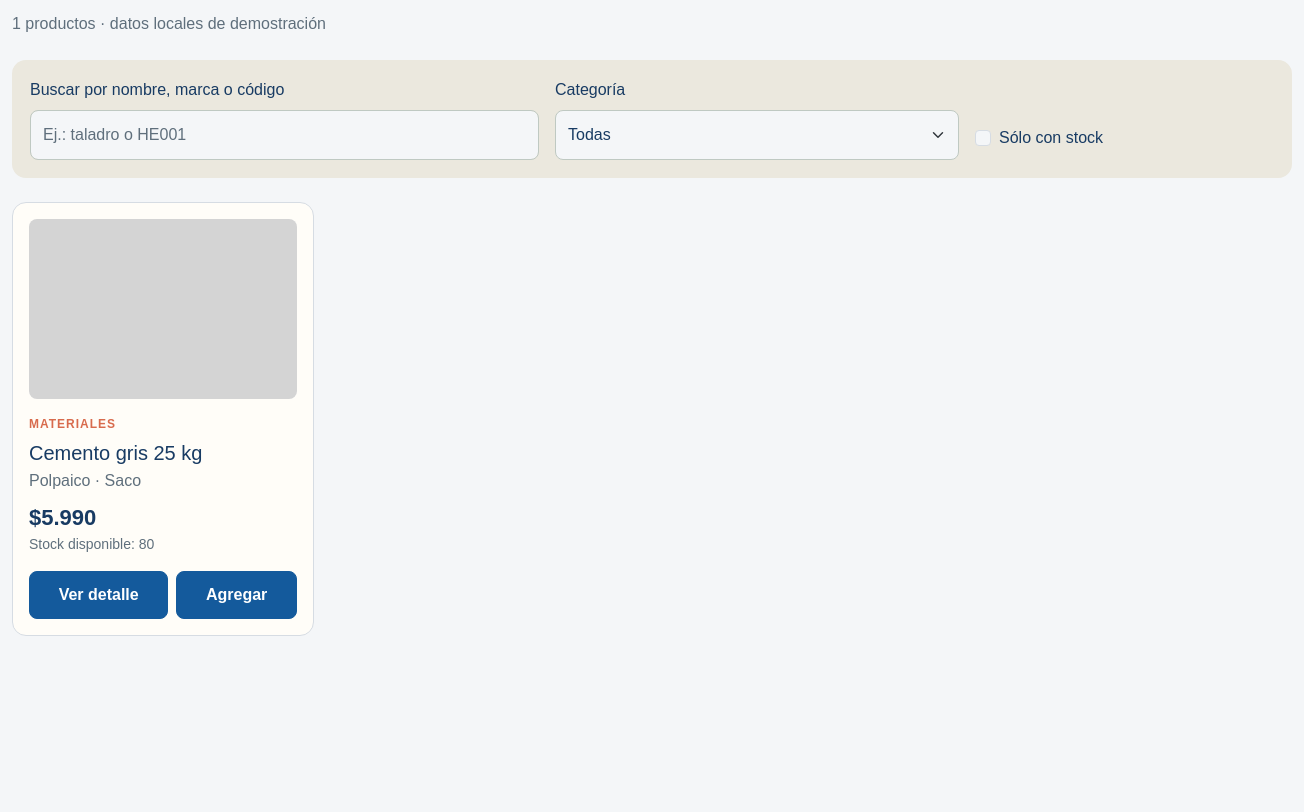
Scenario: ProductosContainer con useCarrito simulado › muestra el aviso de error que devuelva el carrito
Click the button "Agregar": (237, 595) [176,571,297,619]
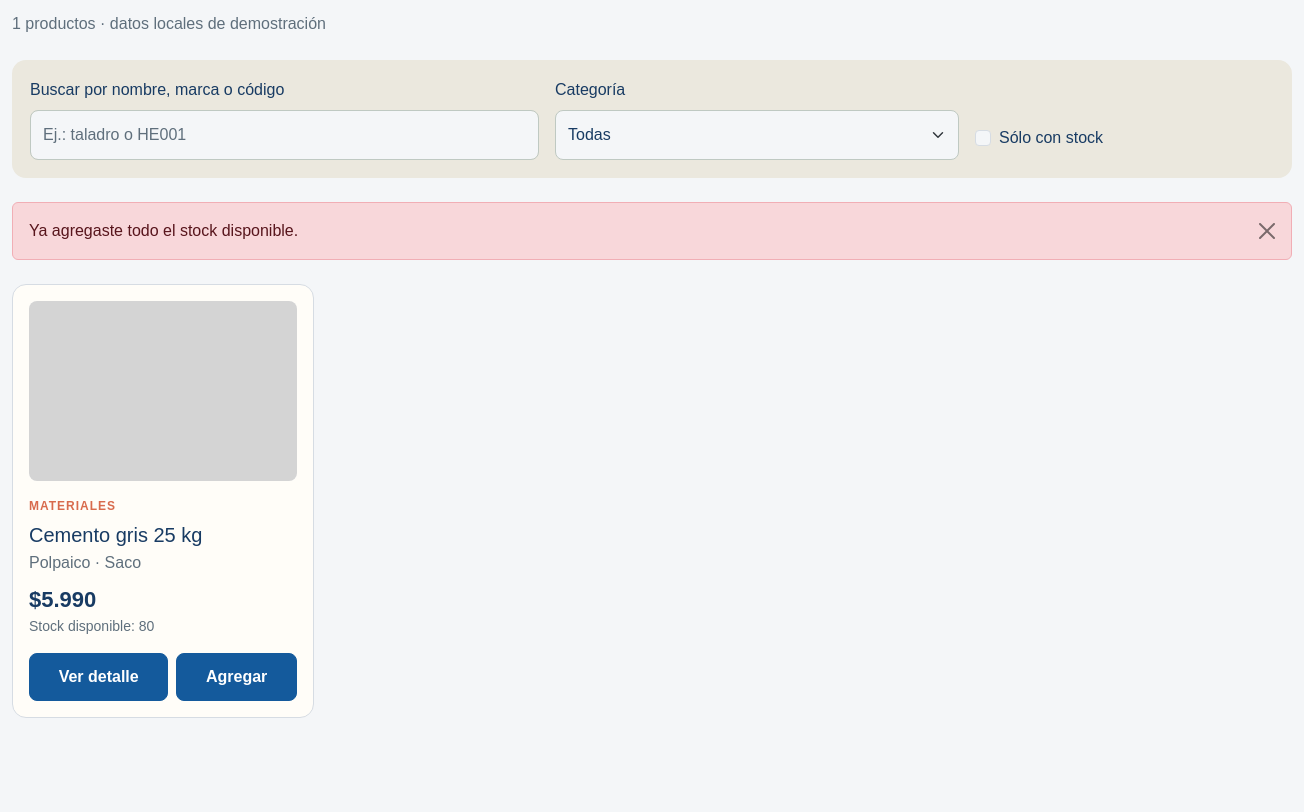
Now the text "Ya agregaste todo el stock disponible." is shown, box [12,202,1292,260]
